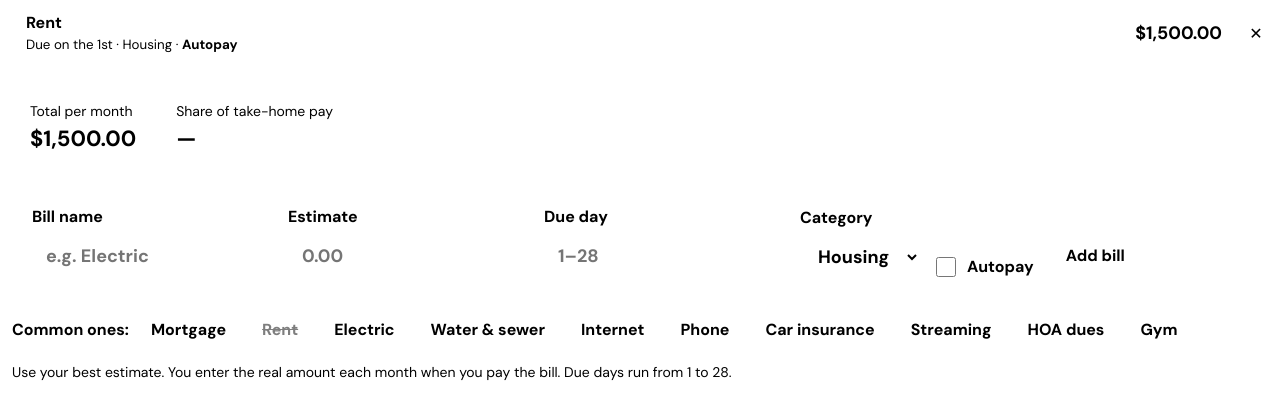
Test case: P1-12 recurring bills step › suggestions: tapping one fills the name; a used one is crossed out and disabled
Expected: the button "Rent" is disabled, x1=248 y1=312 x2=312 y2=348
Click the button "Mortgage".
click(188, 330)  # box x1=137 y1=312 x2=240 y2=348
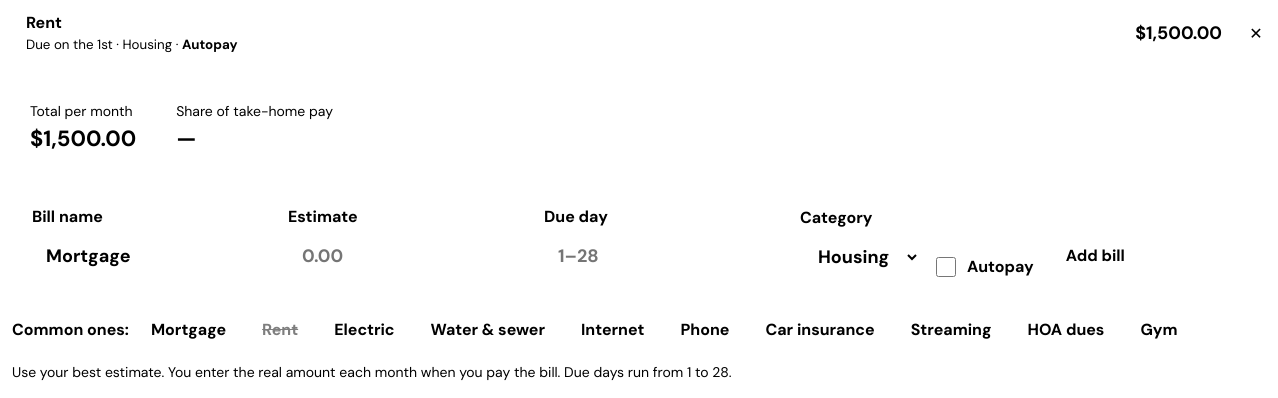
Now the field labelled "Bill name" holds "Mortgage", box x1=32 y1=233 x2=276 y2=280
